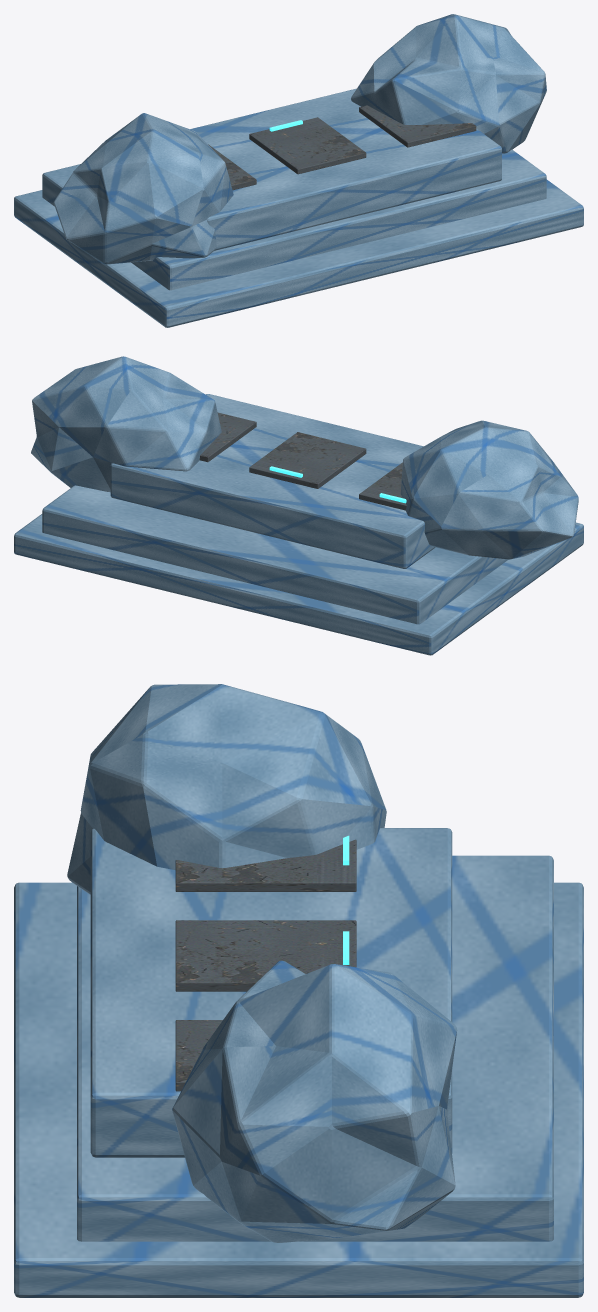
Rendered from ice_terrace.glb.
3 renders of one model, top to bottom at view 1: azimuth 30°, elevation 25°; view 2: azimuth 150°, elevation 25°; view 3: azimuth 270°, elevation 25°, orthographic. The views are drawn at different scales.
Visible parts, largest first — view 1: TerraceStepHigh, TerraceBase, TerraceRockWest, TerraceRockEast, TerraceStepLow, TerracePlate_0, TerracePlate_2.15, TerracePlate_-2.15; view 2: TerraceStepHigh, TerraceStepLow, TerraceRockWest, TerraceRockEast, TerraceBase, TerracePlate_0, TerracePlate_2.15, TerracePlate_-2.15; view 3: TerraceBase, TerraceRockEast, TerraceStepLow, TerraceStepHigh, TerraceRockWest, TerracePlate_0, TerracePlate_-2.15, TerracePlate_2.15.
Part boxes in pixels (x1,y1,x2,y2): TerraceStepHigh: [190, 88, 501, 250]; TerraceBase: [14, 179, 583, 327]; TerraceRockWest: [53, 113, 233, 264]; TerraceRockEast: [351, 14, 546, 153]; TerraceStepLow: [42, 149, 546, 290]; TerracePlate_0: [249, 117, 366, 174]; TerracePlate_2.15: [359, 105, 476, 147]; TerracePlate_-2.15: [208, 144, 256, 190]; TerraceStepHigh: [110, 394, 435, 568]; TerraceStepLow: [42, 485, 508, 624]; TerraceRockWest: [400, 420, 578, 559]; TerraceRockEast: [31, 356, 221, 492]; TerraceBase: [14, 514, 583, 655]; TerracePlate_0: [249, 432, 366, 488]; TerracePlate_2.15: [199, 412, 256, 462]; TerracePlate_-2.15: [359, 462, 406, 510]; TerraceBase: [14, 882, 583, 1297]; TerraceRockEast: [172, 960, 457, 1242]; TerraceStepLow: [77, 855, 553, 1241]; TerraceStepHigh: [90, 828, 452, 1157]; TerraceRockWest: [67, 684, 386, 894]; TerracePlate_0: [175, 920, 356, 991]; TerracePlate_-2.15: [175, 839, 356, 891]; TerracePlate_2.15: [175, 1020, 222, 1091].
Size of the model in its own units: 9.74 by 2.98 by 5.2.
Materials: 4 (4 with a texture image).
